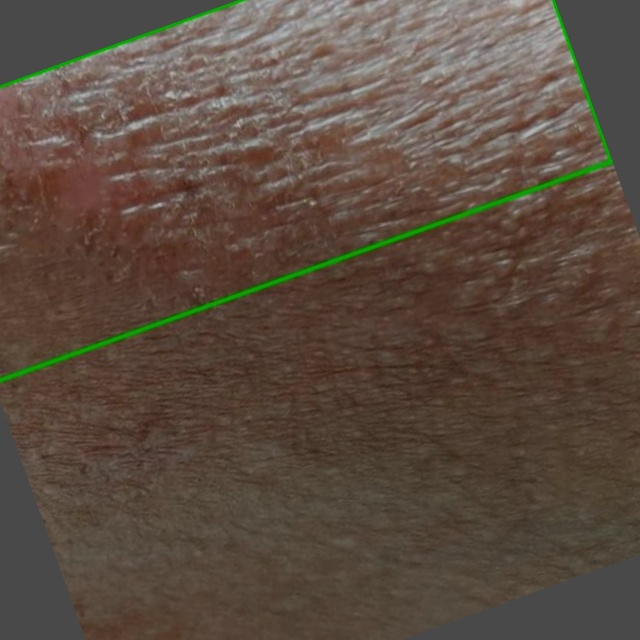Seborrheic Dermatitis: (0, 0, 612, 380)
